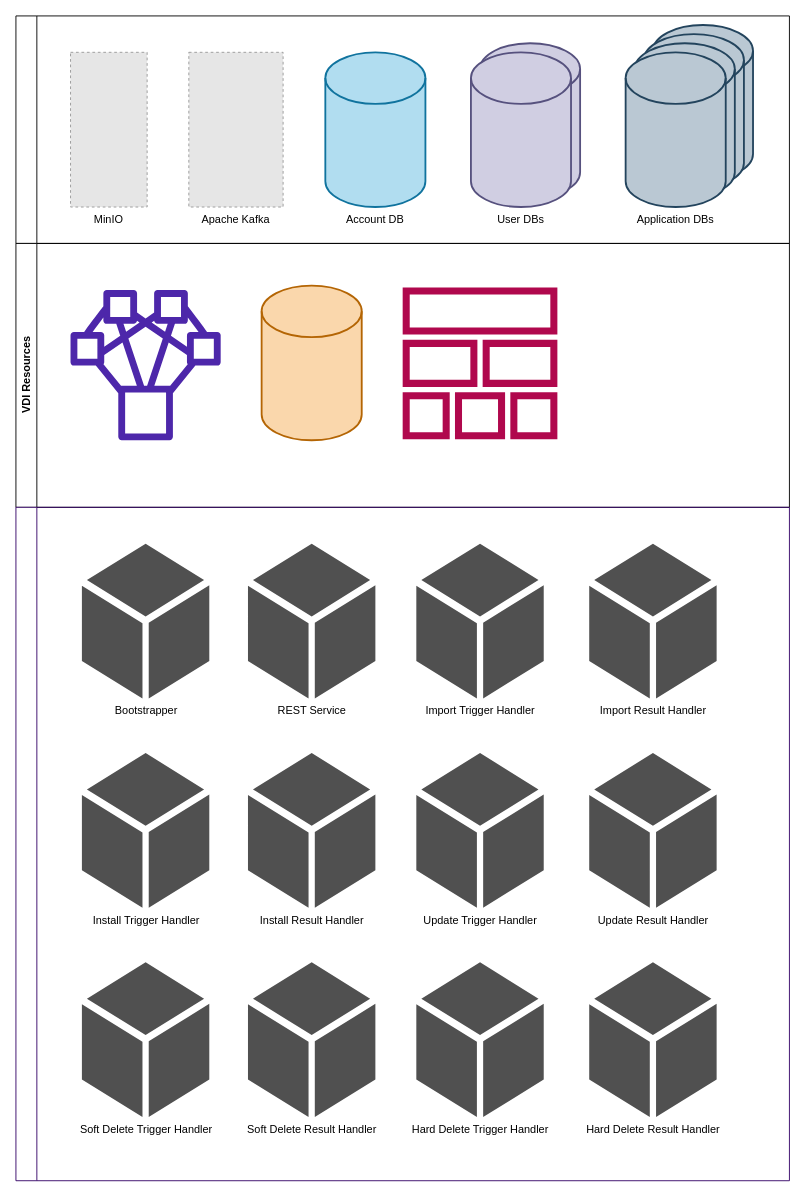
Some shapes in this 805 by 1197 pixel diagram are drawn without their labels. Grey dashed boxes stand in for pictures. The shapes that lost their labels are listed below. From the top down, each one's box as (x1, y1, x2, y2) in pixels, then its label:
(15, 15, 789, 243): Global Resources
(70, 290, 220, 440): Core Service
(260, 284, 362, 441): Cache DB
(402, 286, 557, 440): Satellite Stack
(15, 506, 789, 1181): VDI Core Service
